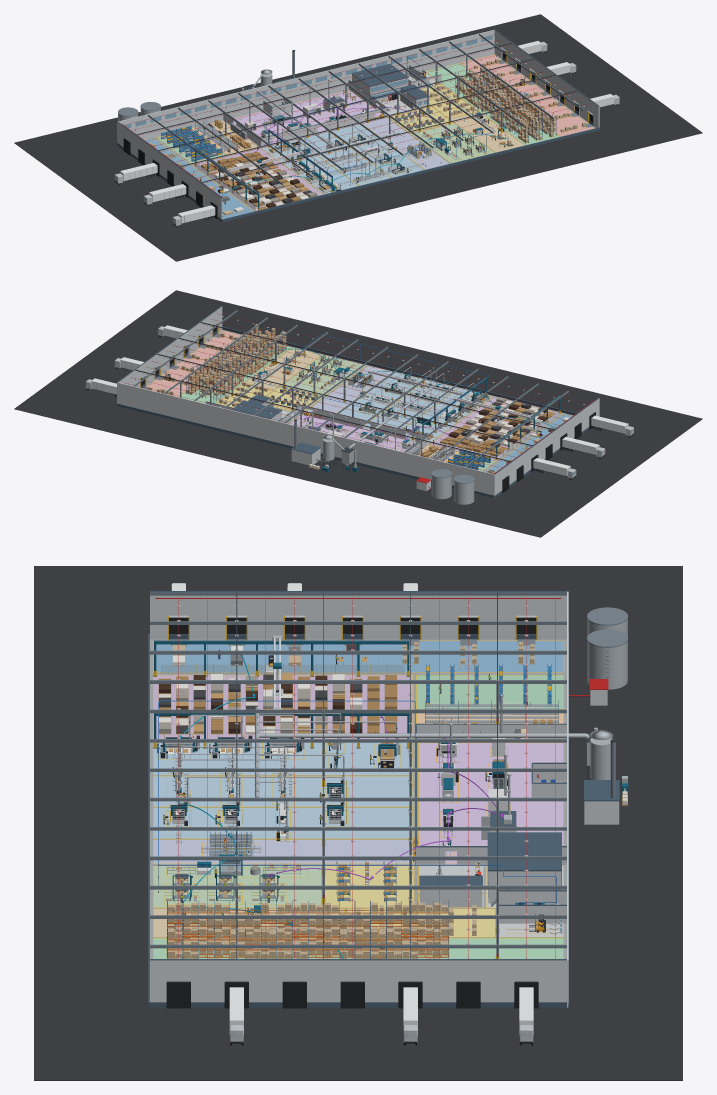
Rendered from factory.glb.
The picture shows the model from 3 angles, top to bottom: view 1: azimuth 30°, elevation 25°; view 2: azimuth 150°, elevation 25°; view 3: azimuth 270°, elevation 25°; orthographic projection. The views are drawn at different scales.
Visible parts, largest first — view 1: Майданчик і підлога, Стіни, Ферми та світильники, SPRINKLERS, Перегородки, Z-FAC, Z-OUT, Z-CNC, Z-EB, DUST, Z-ASM, Z-SORT (+19 smaller); view 2: Майданчик і підлога, Стіни, Ферми та світильники, SPRINKLERS, OUTSIDE, DUST, Z-OUT, GANTRY-1, Z-ASM, Перегородки, Z-CNC, Z-EB (+16 smaller); view 3: Майданчик і підлога, Стіни, Ферми та світильники, Z-FAC, Z-RCV, OUTSIDE, Z-CNC, Перегородки, Z-EB, GANTRY-1, Z-CUT, DUST (+26 smaller).
Part boxes in pixels (x1,y1,x2,y2): Майданчик і підлога: (14,14,702,261); Стіни: (117,29,599,222); Ферми та світильники: (135,33,584,199); SPRINKLERS: (122,34,589,198); Перегородки: (223,65,441,147); Z-FAC: (234,90,381,143); Z-OUT: (460,54,594,136); Z-CNC: (330,124,423,177); Z-EB: (297,132,390,185); DUST: (242,79,399,181); Z-ASM: (411,123,494,163); Z-SORT: (362,117,449,169); Майданчик і підлога: (14,290,702,537); Стіни: (117,305,599,498); Ферми та світильники: (133,309,584,468); SPRINKLERS: (125,313,594,473); OUTSIDE: (291,419,474,504); DUST: (311,367,474,471); Z-OUT: (146,331,245,396); GANTRY-1: (422,377,560,459); Z-ASM: (281,355,365,396); Перегородки: (205,401,426,453); Z-CNC: (339,372,422,425); Z-EB: (363,380,457,429); Майданчик і підлога: (34,566,682,1080); Стіни: (148,591,568,1007); Ферми та світильники: (150,592,566,958); Z-FAC: (418,742,563,863); Z-RCV: (153,640,563,672); OUTSIDE: (568,607,628,824); Z-CNC: (153,807,413,838); Перегородки: (415,723,566,923); Z-EB: (153,776,413,806); GANTRY-1: (153,635,409,748); Z-CUT: (153,742,413,775); DUST: (179,694,597,826).
Size of the model in its own units: 210 by 15.8 by 112.
